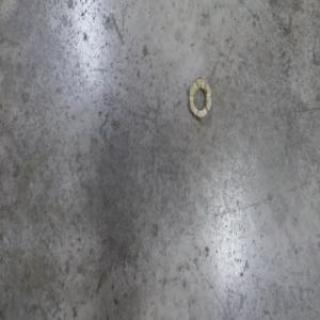Nuttrack_idkeyframe: (188, 73, 212, 121)
